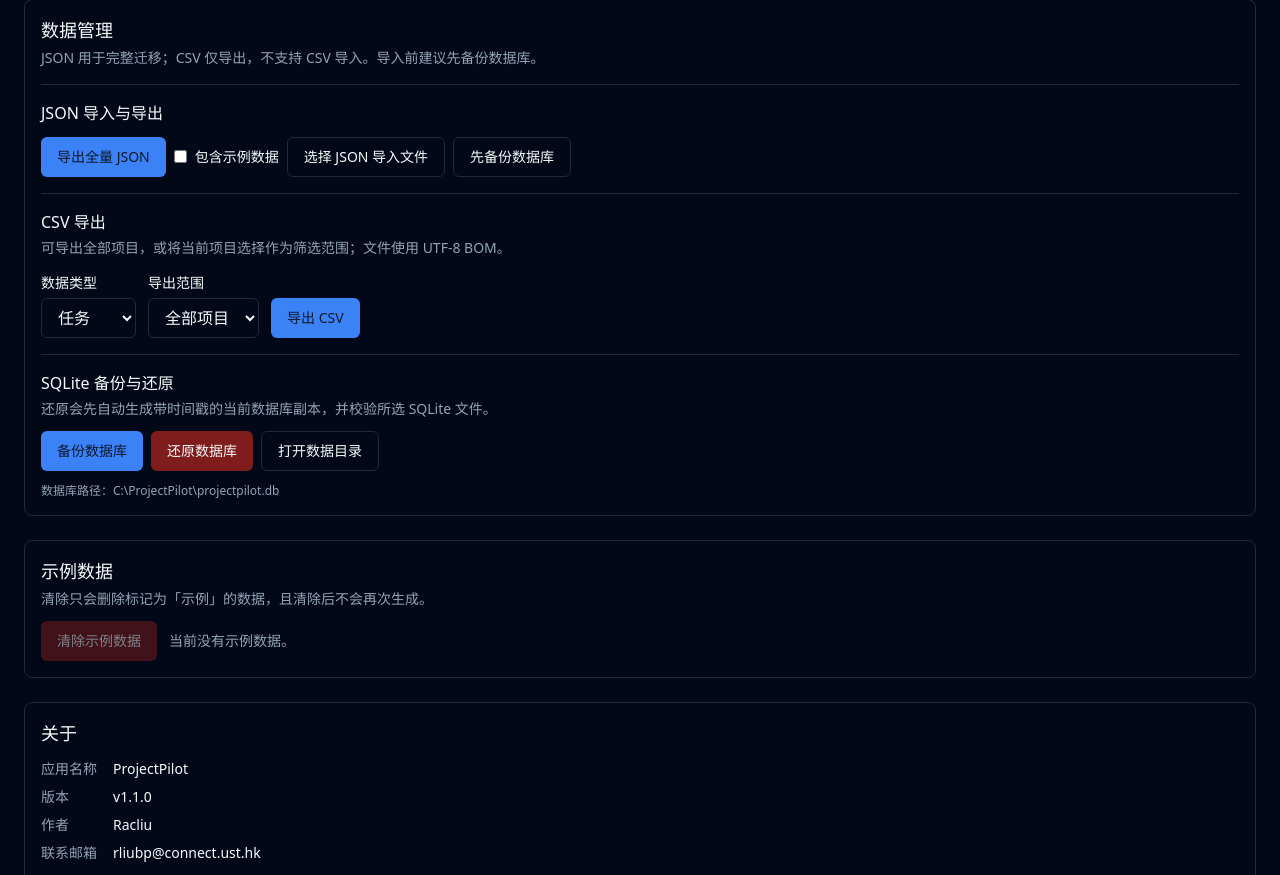
it: SettingsPage 数据管理 › 还原数据库必须经过明确二次确认
(page scrolled)
Click the button "还原数据库".
click(202, 451)  # box [151,431,253,471]
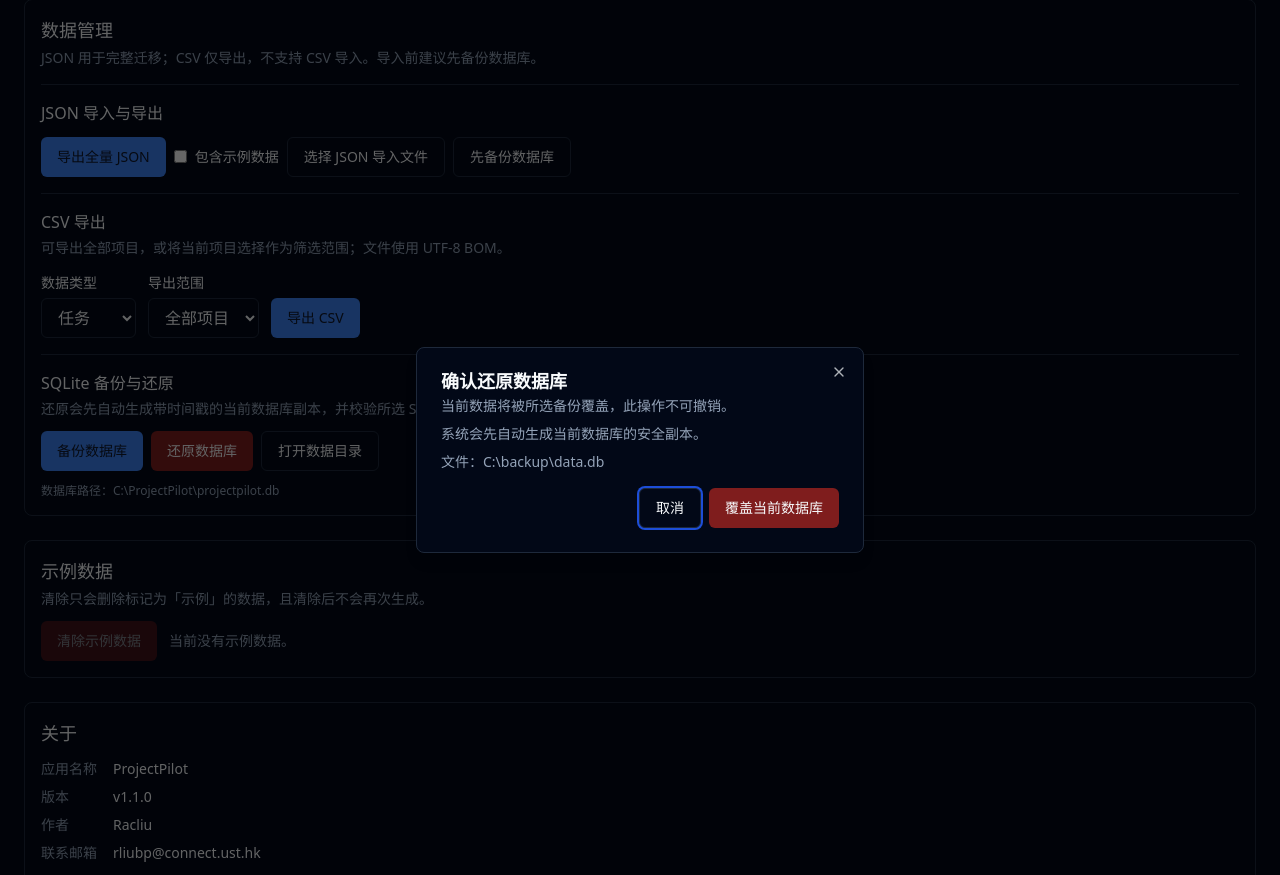
Expected: the heading "确认还原数据库" is shown, [441,369,567,393]
Click the button "覆盖当前数据库".
click(774, 508)  # box [709,488,839,528]
(page scrolled)
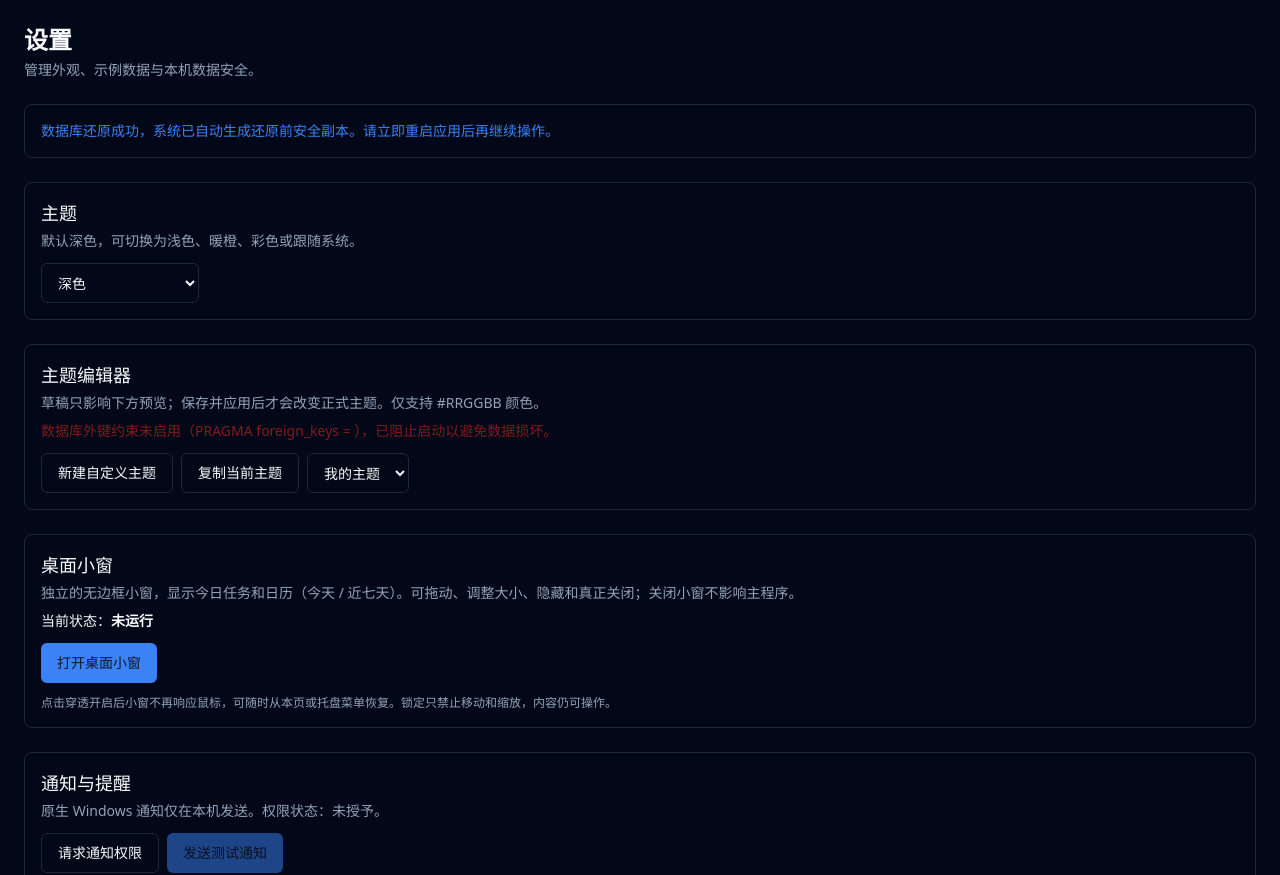
Expected: the text "数据库还原成功，系统已自动生成还原前安全副本。请立即重启应用后再继续操作。" is shown, [41,121,559,140]
